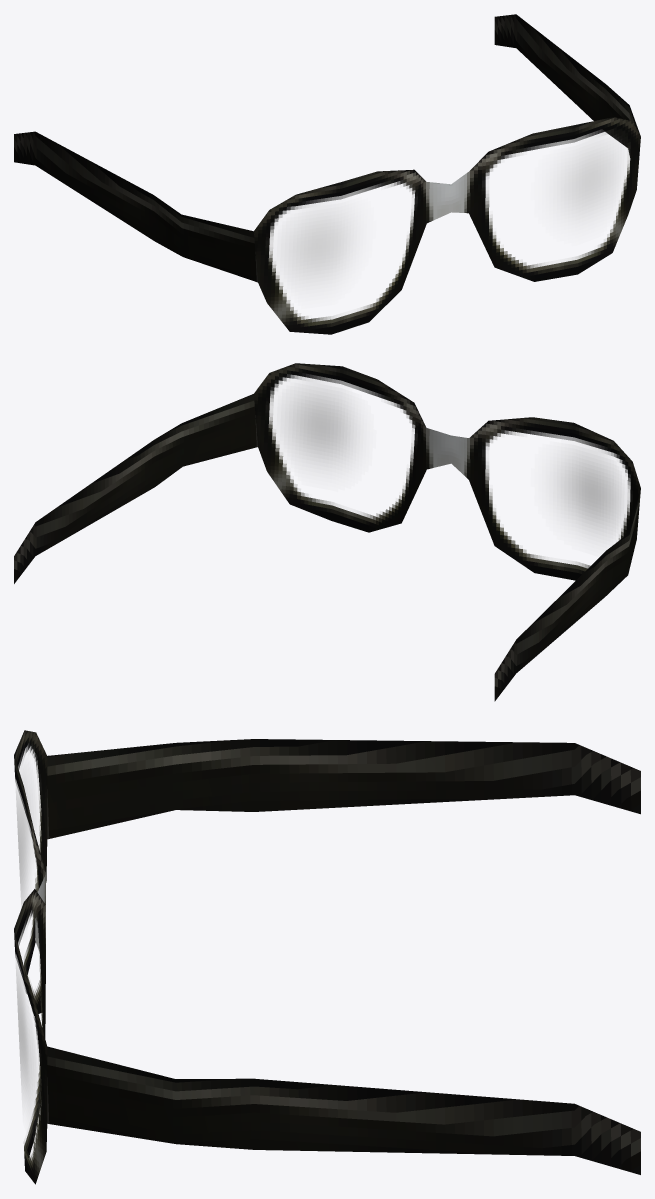
File: dork_glasses.glb
3 views of the same model, one above another, from view 1: azimuth 30°, elevation 25°; view 2: azimuth 150°, elevation 25°; view 3: azimuth 270°, elevation 25° (orthographic). The views are drawn at different scales.
Parts seen in each view (by area): view 1: tt_m_chr_avt_acc_msk_dorkGlasses; view 2: tt_m_chr_avt_acc_msk_dorkGlasses; view 3: tt_m_chr_avt_acc_msk_dorkGlasses.
Boxes of the visible parts, x1,y1,x2,y2 form: tt_m_chr_avt_acc_msk_dorkGlasses: [14, 14, 640, 334]; tt_m_chr_avt_acc_msk_dorkGlasses: [14, 363, 640, 701]; tt_m_chr_avt_acc_msk_dorkGlasses: [14, 730, 640, 1184].
Bounding box in the file's own units: 1.08 × 0.3316 × 0.7965.
1 material, 1 textured.
